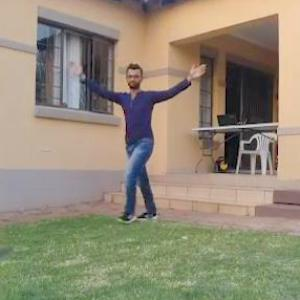takeoff: (68, 60, 212, 223)
